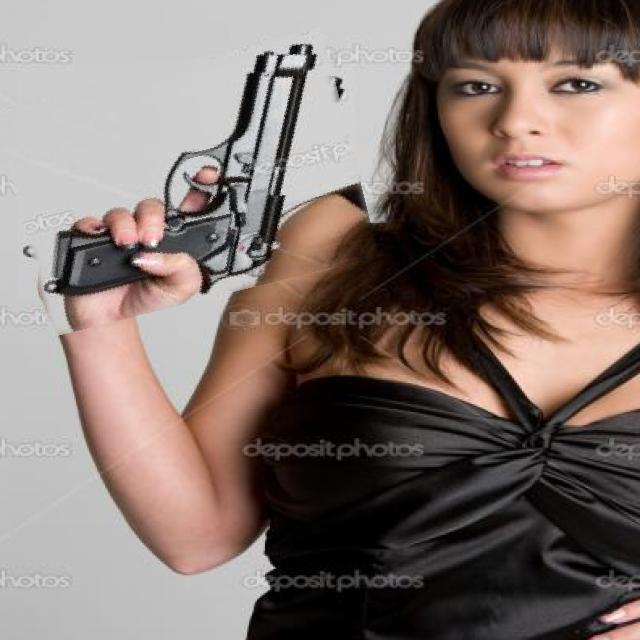handgun: (6, 46, 367, 319)
